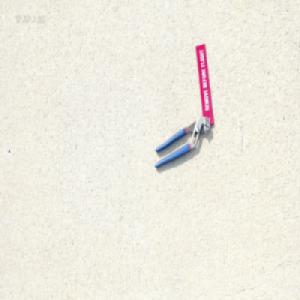Label: (192, 42, 211, 125)
Pliers: (150, 115, 206, 169)
